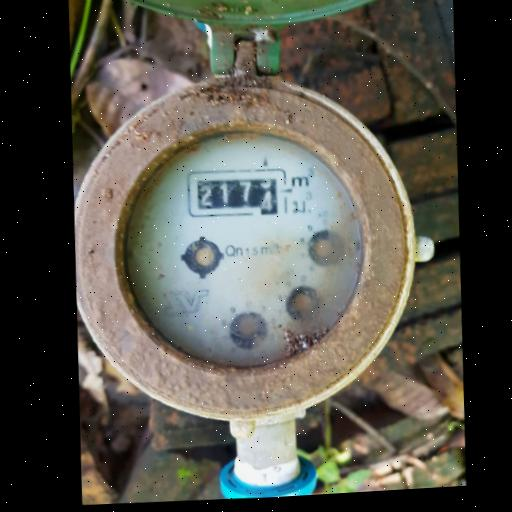1: (214, 180, 237, 210)
2: (197, 181, 215, 210)
4: (259, 179, 279, 216)
7: (235, 178, 261, 209)
border_water_meter_number: (185, 165, 288, 221)
